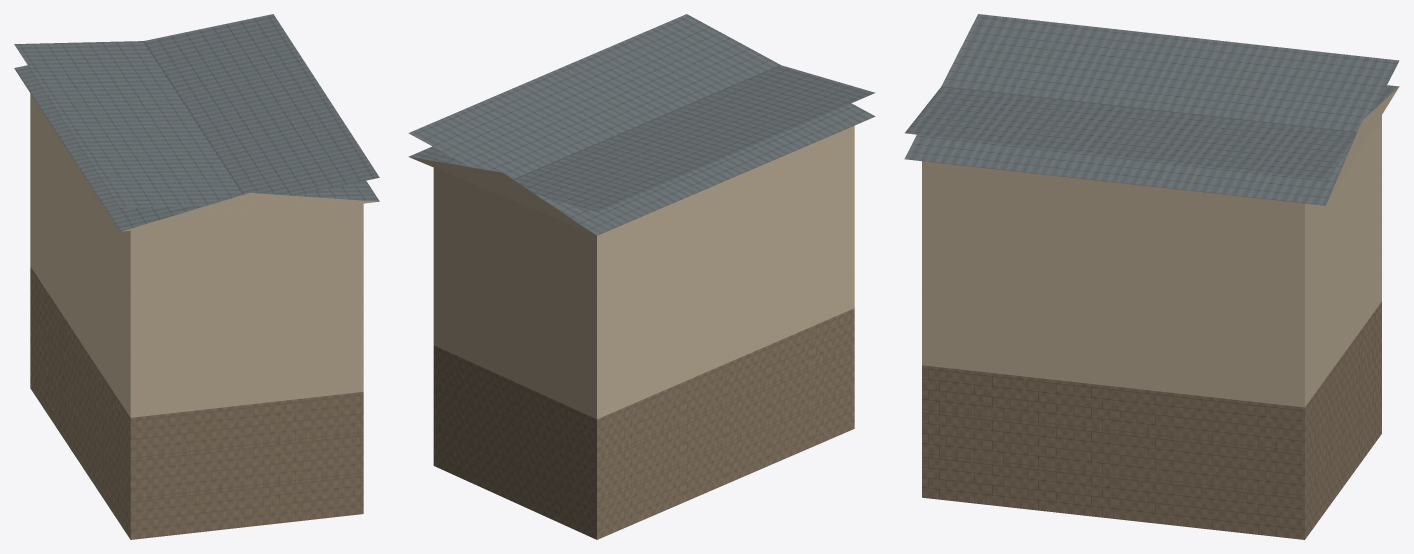
The model's file is bld_c40_33_295.gltf.
The picture shows the model from 3 angles, left to right: view 1: azimuth 30°, elevation 25°; view 2: azimuth 150°, elevation 25°; view 3: azimuth 270°, elevation 25°; orthographic projection. The views are drawn at different scales.
Parts seen in each view (by area): view 1: bld_c40_33_295; view 2: bld_c40_33_295; view 3: bld_c40_33_295.
Part boxes in pixels (x1,y1,x2,y2): bld_c40_33_295: [14, 14, 379, 539]; bld_c40_33_295: [408, 14, 875, 539]; bld_c40_33_295: [904, 14, 1399, 539].
Bounding box in the file's own units: 13.69 × 14.2 × 17.28.
4 materials, 4 textured.
